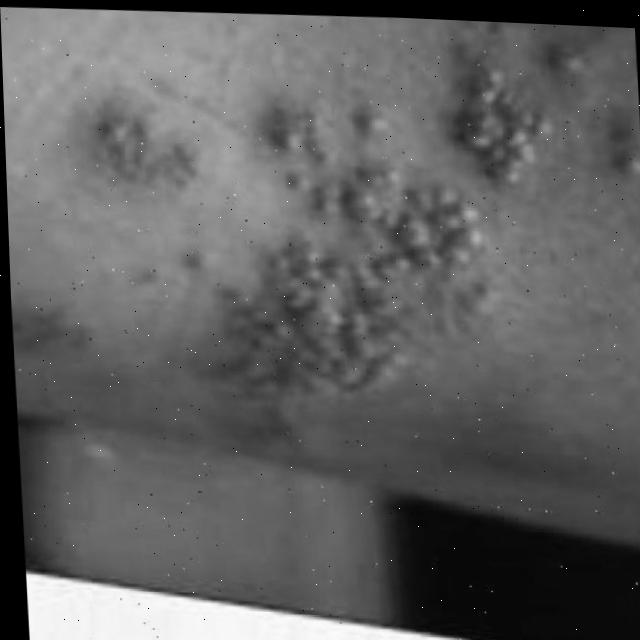Shingles: (212, 36, 584, 440), (89, 108, 207, 197), (603, 82, 640, 247)
